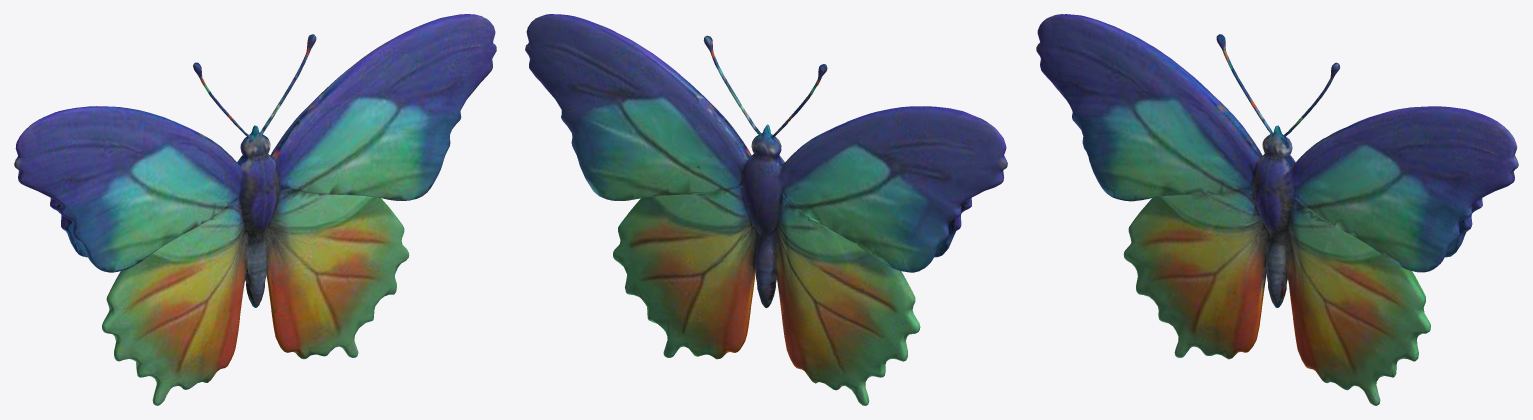
The picture shows the model from 3 angles, left to right: view 1: azimuth 30°, elevation 25°; view 2: azimuth 150°, elevation 25°; view 3: azimuth 330°, elevation 25°; orthographic projection.
Size of the model in its own units: 1.9 by 1.25 by 0.1659.
Materials: 1 (1 with a texture image).
